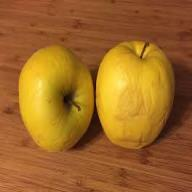apple: (96, 42, 167, 146), (16, 56, 88, 148)
